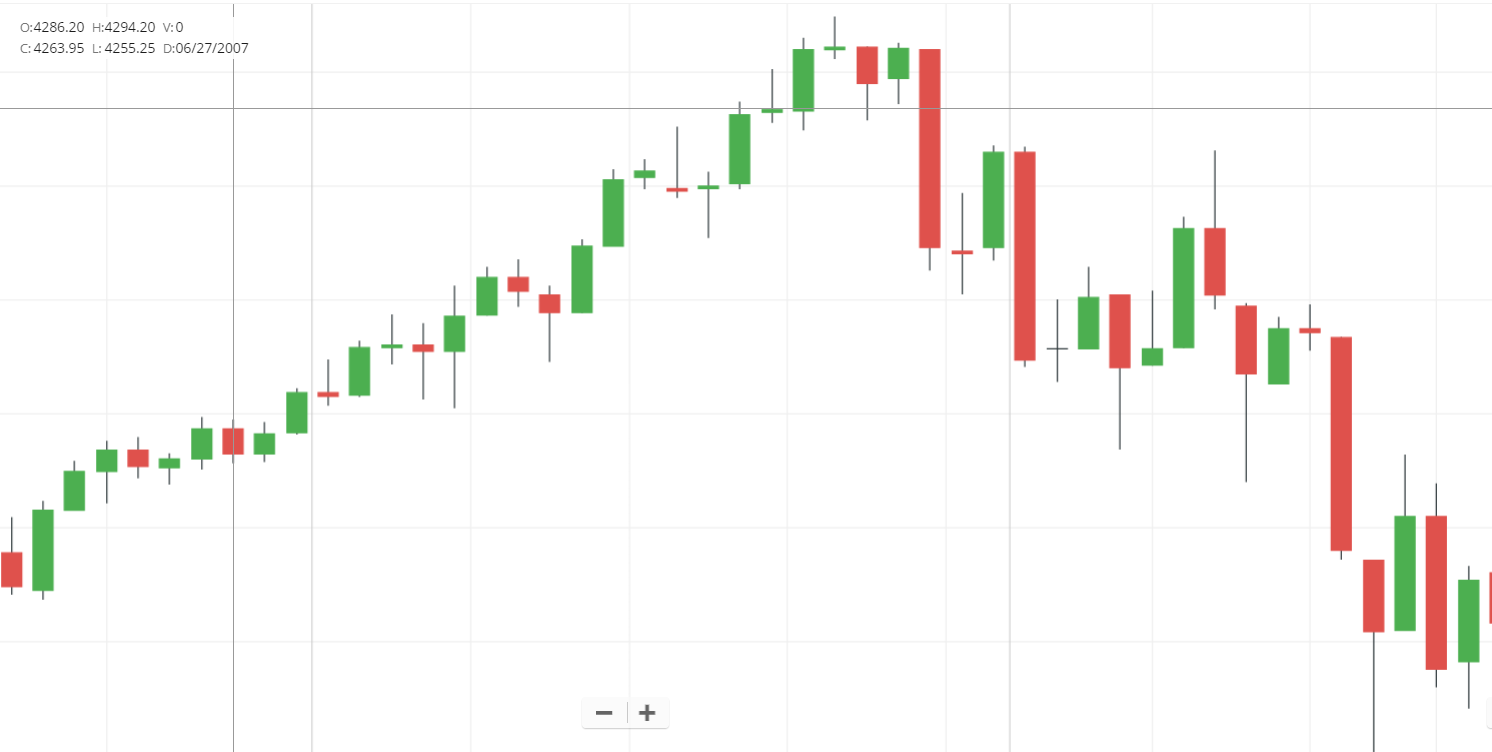doji: (946, 175, 975, 300), (408, 309, 441, 412), (661, 109, 692, 209), (1137, 277, 1165, 375), (756, 58, 788, 133), (697, 165, 725, 248), (1049, 287, 1070, 388), (1296, 293, 1325, 354), (820, 5, 846, 63)
